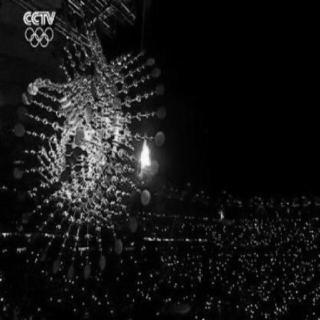Fire: (134, 134, 158, 182)
